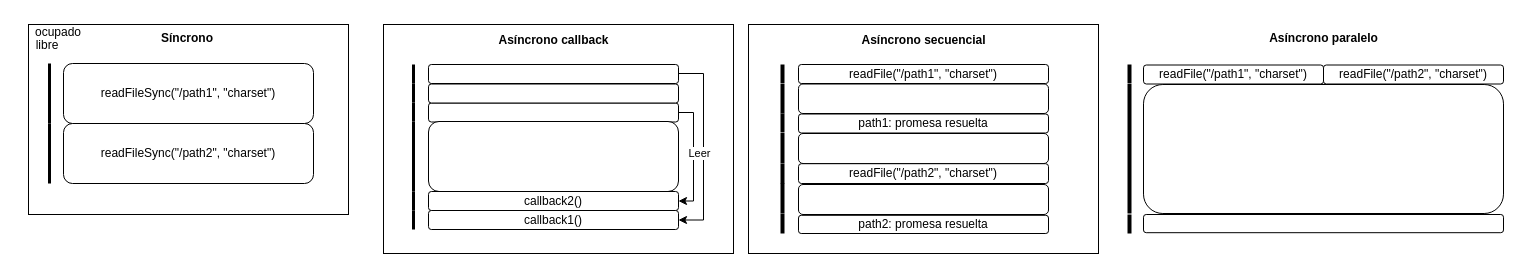
This 1521x271 diagram has some shape labels left out. Here are the shapes that lost their labels. From the top down, the box of each, then its label:
(428, 64, 678, 84): readFile("/path1", "charset", callback1)
(428, 102, 678, 122): readFile("/path2", "charset", callback2)
(1142, 214, 1504, 233): todo resuelto
